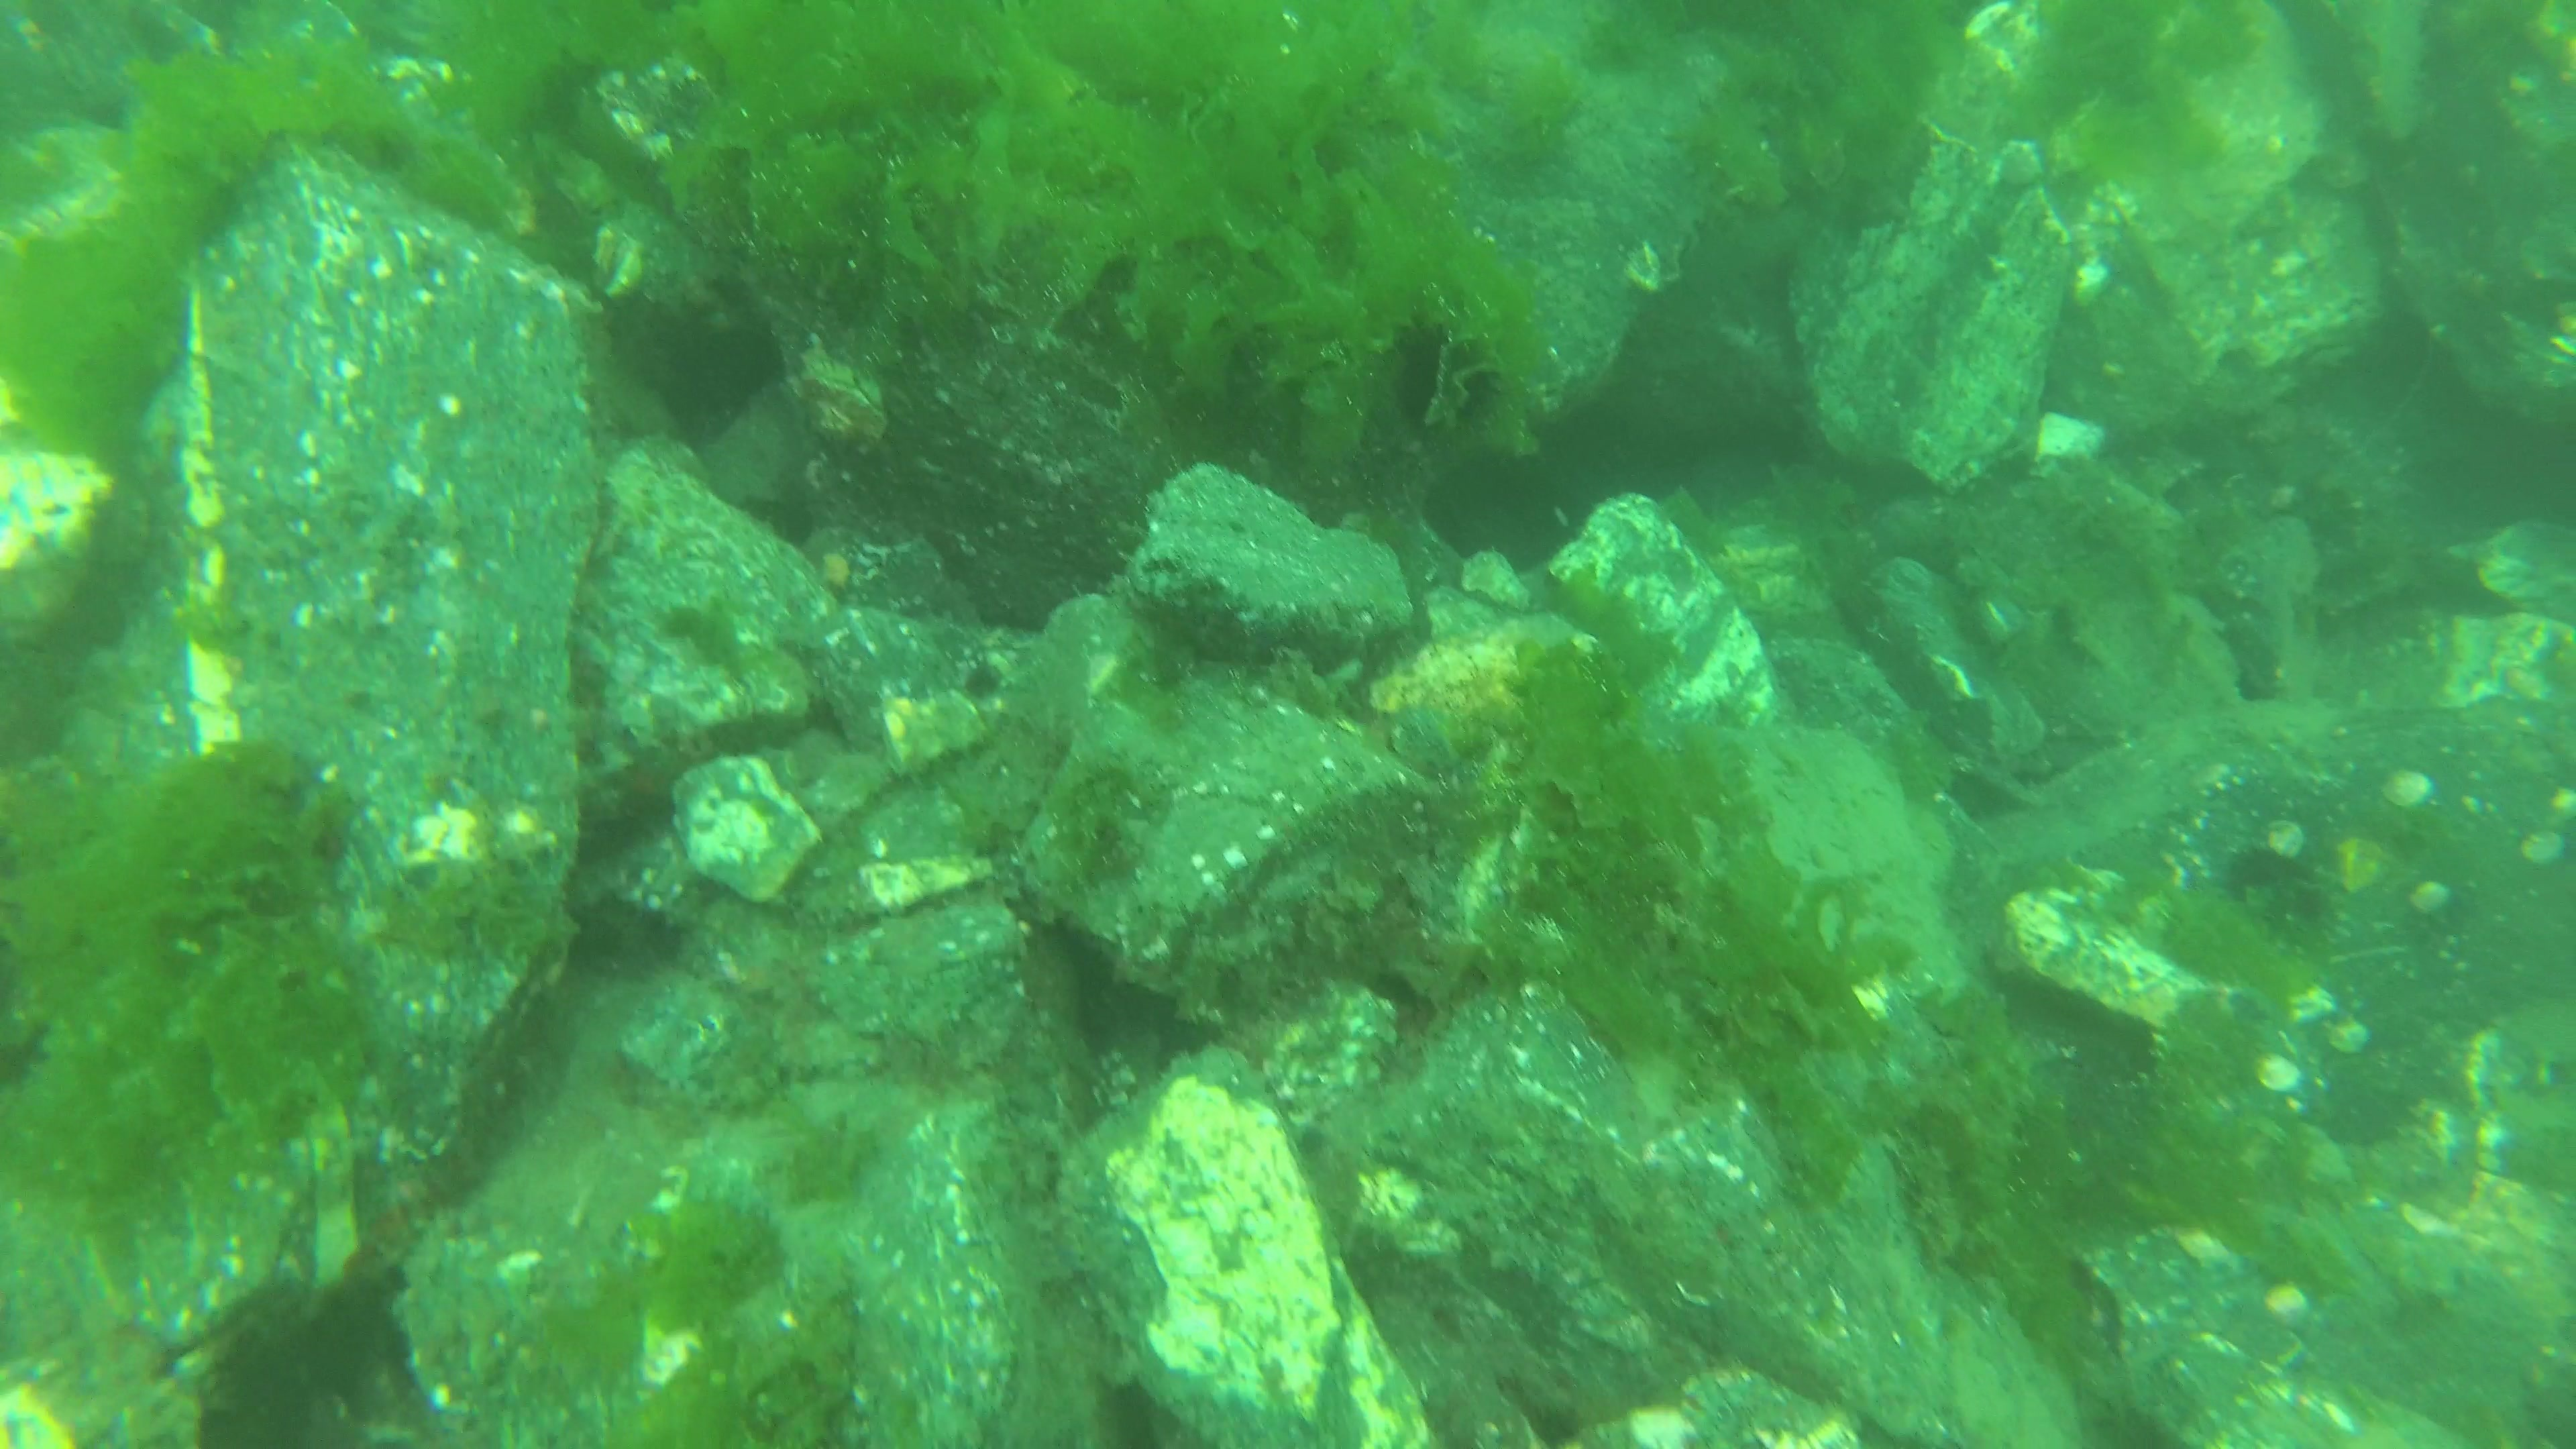echinus: (1382, 317, 1506, 437), (2227, 847, 2328, 941)
